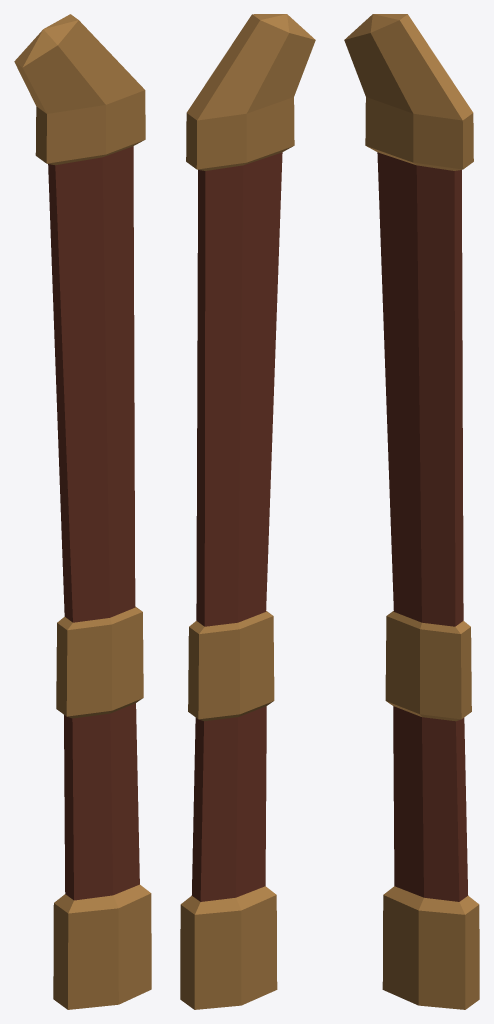
Rendered from SM_Wep_Sabre_02_Sheath.glb.
3 views of the same model, side by side, from view 1: azimuth 30°, elevation 25°; view 2: azimuth 210°, elevation 25°; view 3: azimuth 330°, elevation 25° (orthographic).
Visible parts, largest first — view 1: SM_Wep_Sabre_02_Sheath; view 2: SM_Wep_Sabre_02_Sheath; view 3: SM_Wep_Sabre_02_Sheath.
Part boxes in pixels (x1,y1,x2,y2): SM_Wep_Sabre_02_Sheath: (14,14,151,1009); SM_Wep_Sabre_02_Sheath: (180,14,315,1009); SM_Wep_Sabre_02_Sheath: (344,14,479,1009).
Size of the model in its own units: 0.0013 by 0.00973 by 0.000525.
